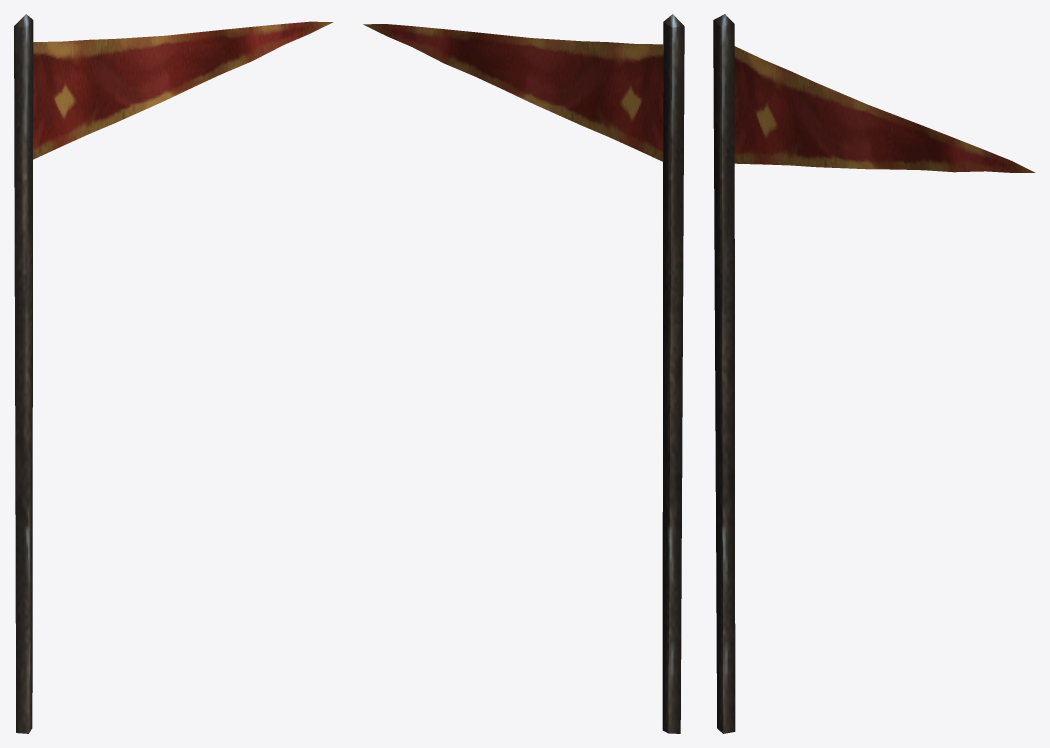
The model's file is Flag02.FBX.
3 renders of one model, left to right at view 1: azimuth 30°, elevation 25°; view 2: azimuth 150°, elevation 25°; view 3: azimuth 330°, elevation 25°, orthographic.
Parts seen in each view (by area): view 1: Flag02, Flagpole; view 2: Flag02, Flagpole; view 3: Flag02, Flagpole.
Boxes of the visible parts, x1,y1,x2,y2 form: Flag02: (33,21,333,159); Flagpole: (14,14,33,733); Flag02: (363,24,663,161); Flagpole: (662,14,684,733); Flag02: (734,46,1035,172); Flagpole: (713,14,735,733).
Bounding box in the file's own units: 255 × 546 × 10.2.
